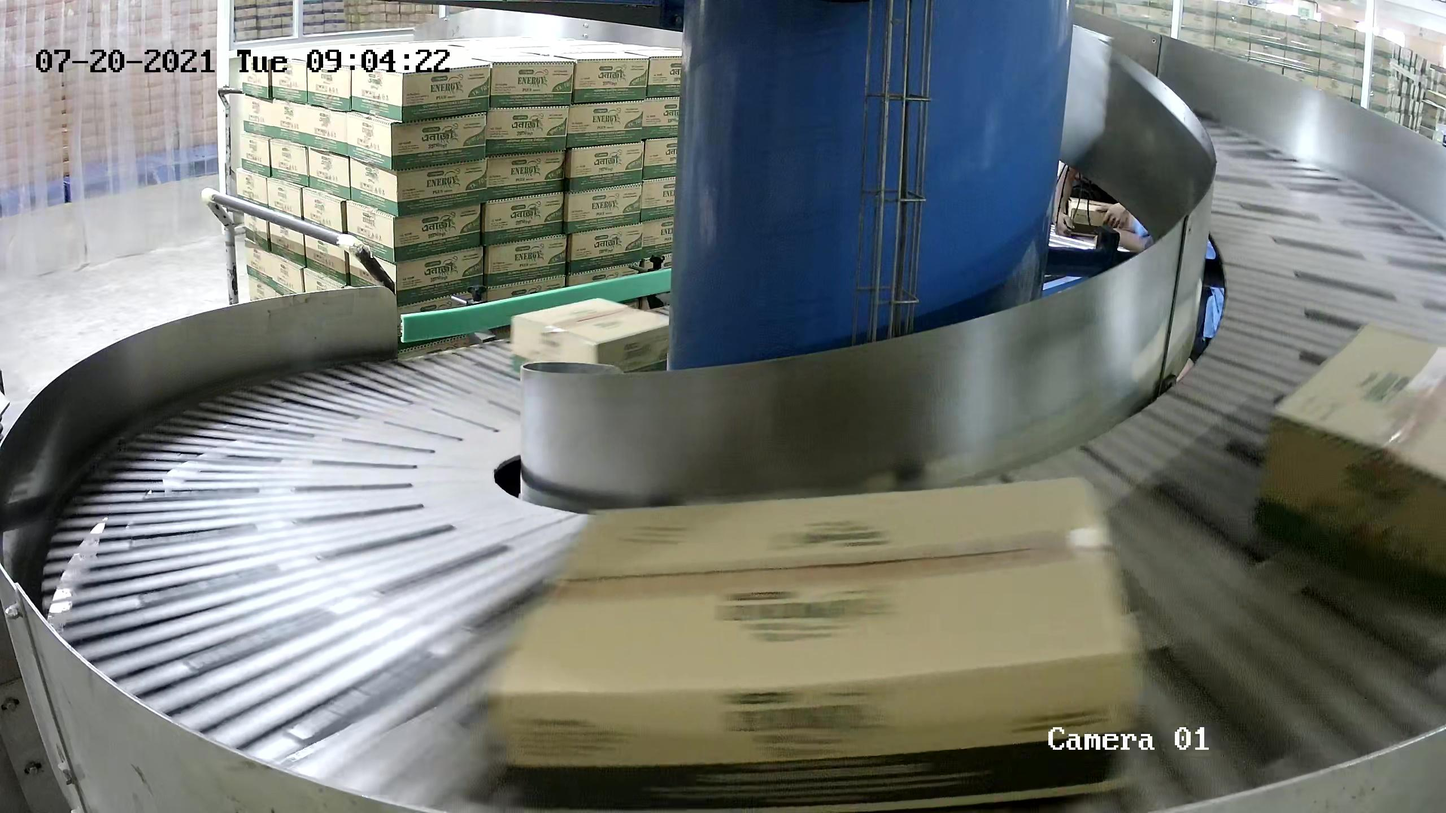Box: (479, 471, 1151, 813), (1247, 316, 1446, 634), (511, 296, 684, 400)
